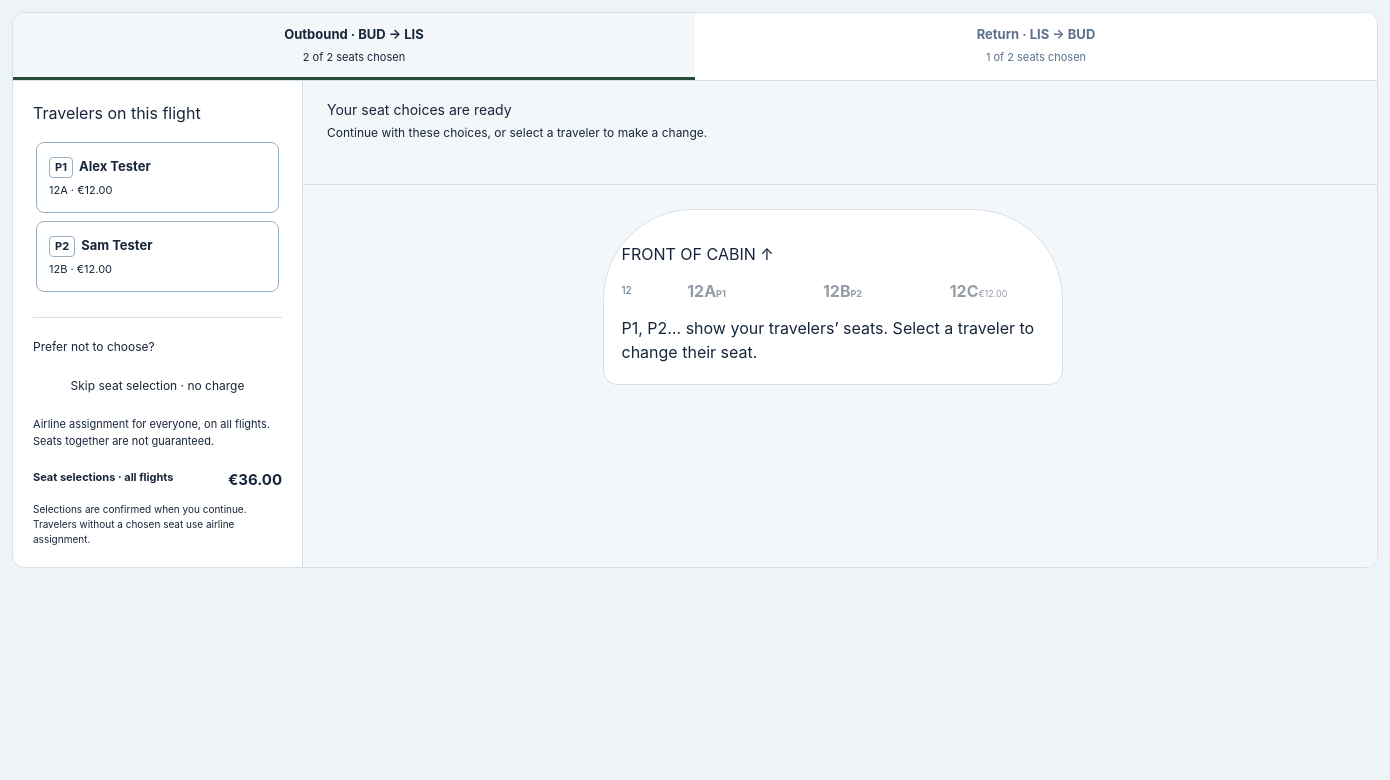
changes only an explicitly selected traveler and protects seats occupied by someone else
Step 1. Click the button "P1 Alex Tester 12A · €12.00" → [158, 178], box [36,142,279,213]
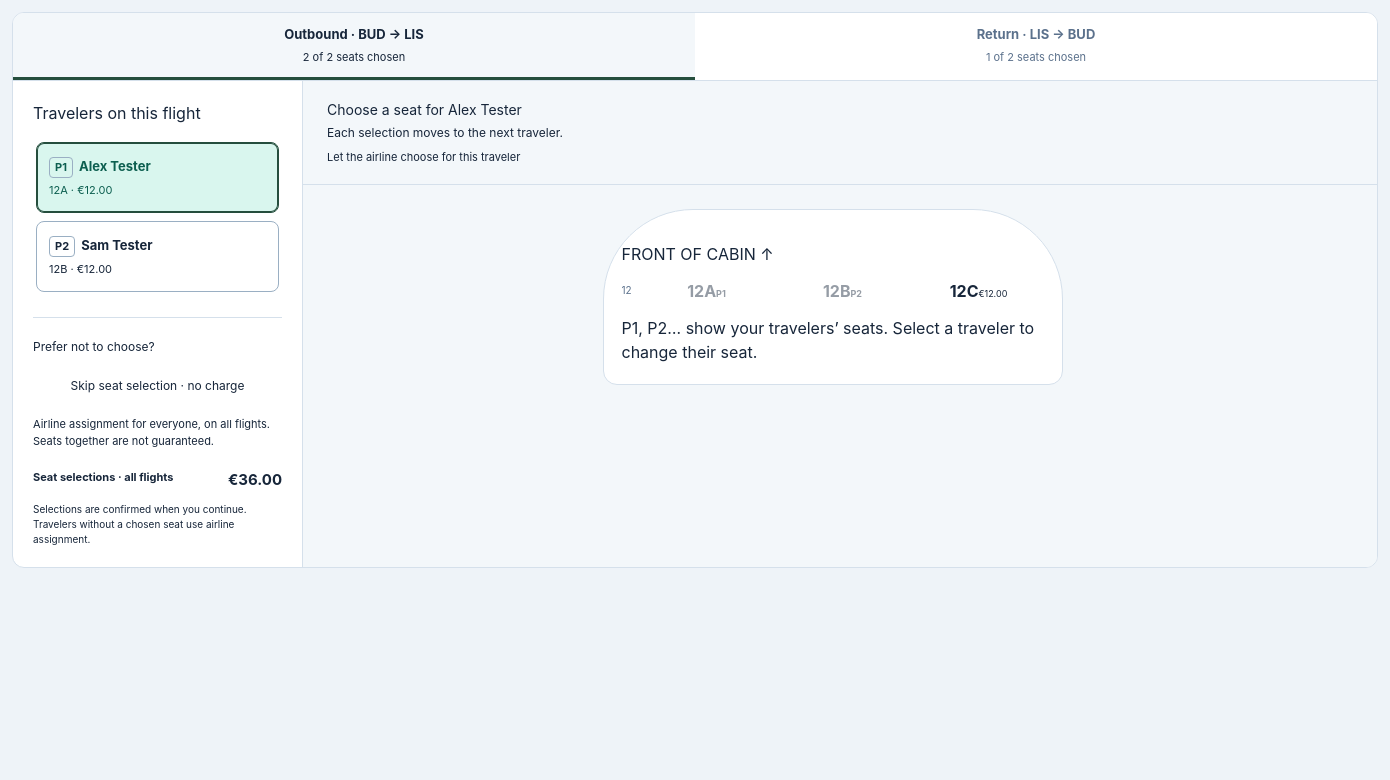
expect the button with aria-label "Seat 12B" is disabled: met, box [778,266,908,316]
Step 2. Click the button "12C€12.00" → [978, 291], box [914,266,1044,316]
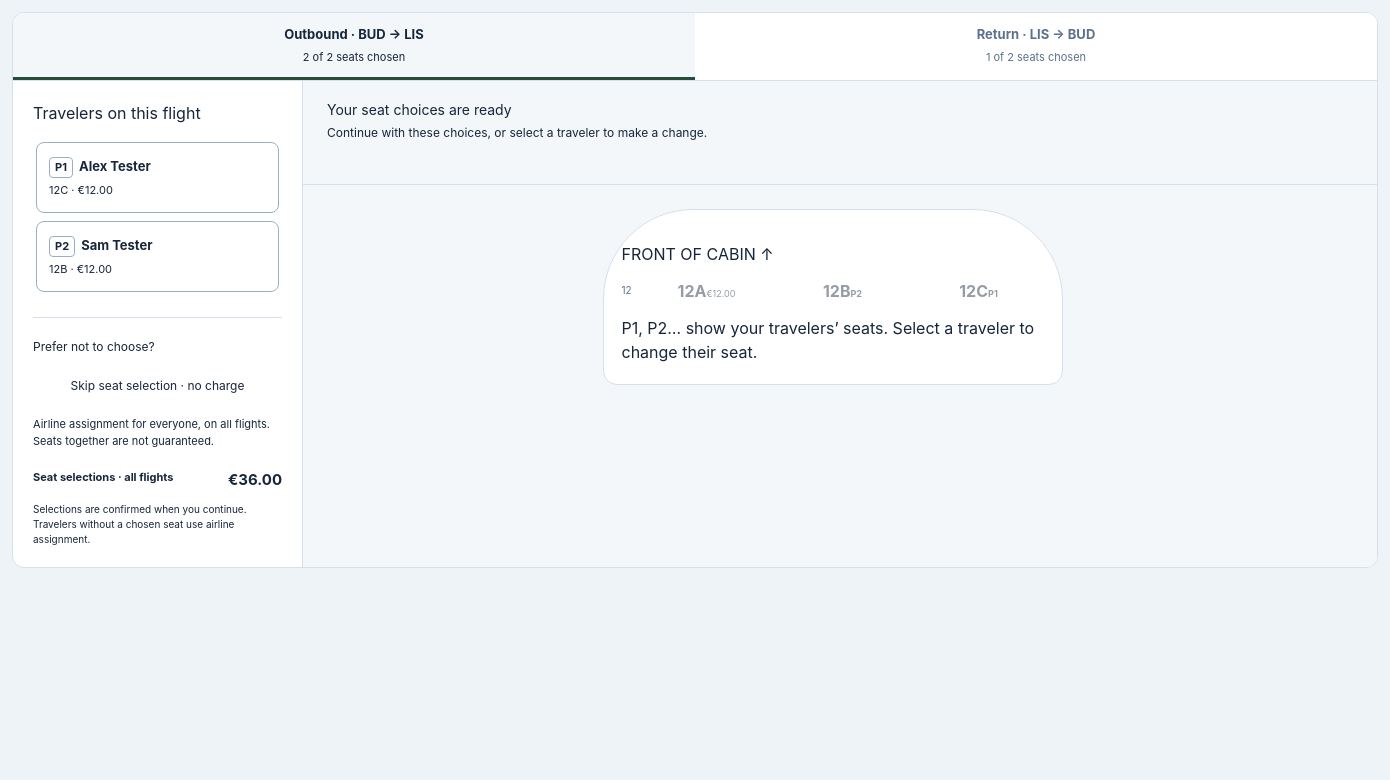
expect the button "P1 Alex Tester 12C · €12.00" is shown: met, box [36,142,279,213]
